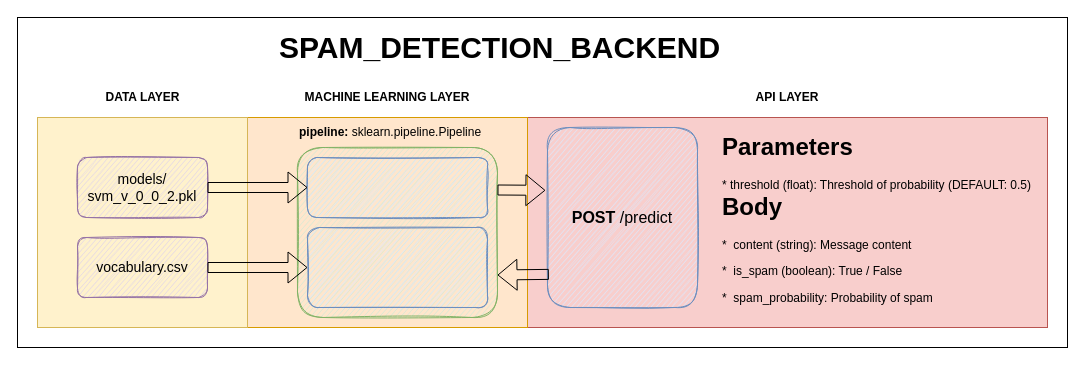
Some shapes in this 1085 by 365 pixel diagram are drawn without their labels. Each missing label, with the centre of its shape:
"Classifier (Support Vector Classifier)" goes at (x=397, y=187).
"EmailContentPreprocessor (Basic preprocessing, PorterStemming, tokenization)" goes at (x=397, y=267).
